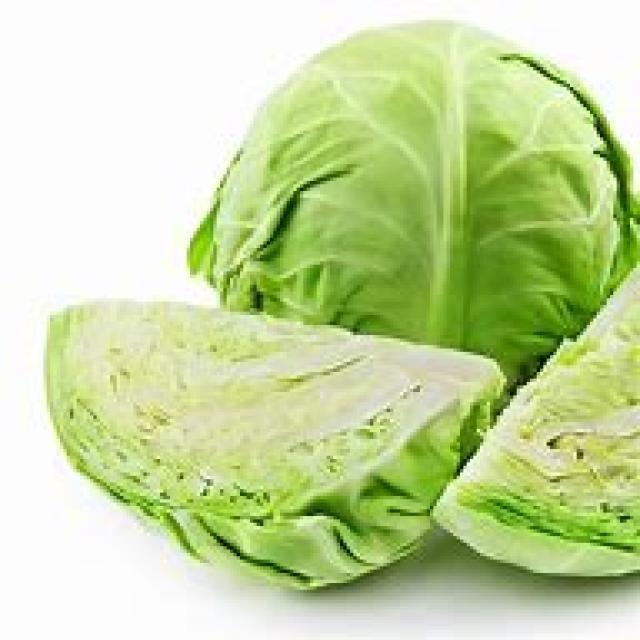cabbage: (199, 19, 631, 377), (29, 287, 502, 592)
